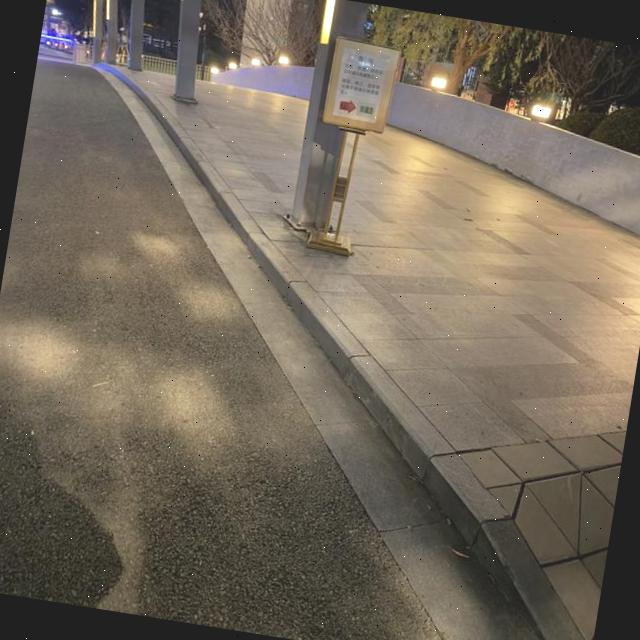curb: (98, 66, 585, 640)
